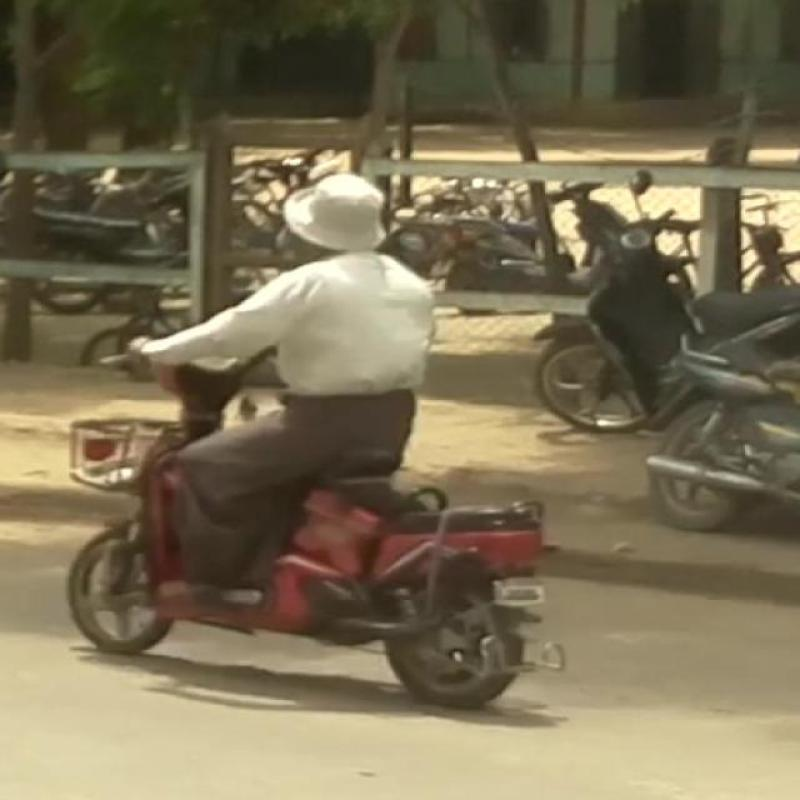nohelmet: (259, 164, 410, 276)
